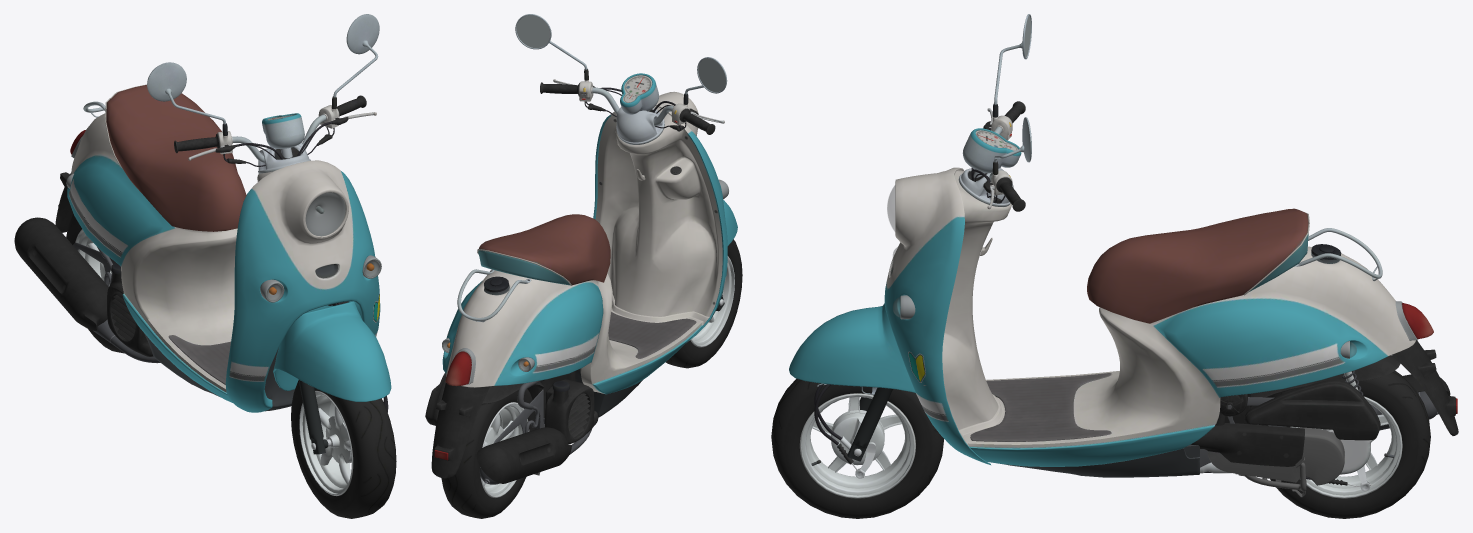
The model's file is vino-bike.glb.
3 views of the same model, side by side, from view 1: azimuth 30°, elevation 25°; view 2: azimuth 150°, elevation 25°; view 3: azimuth 270°, elevation 25° (orthographic). The views are drawn at different scales.
Bounding box in the file's own units: 0.6793 × 1.16 × 1.62.
Materials: 6 (6 with a texture image).
